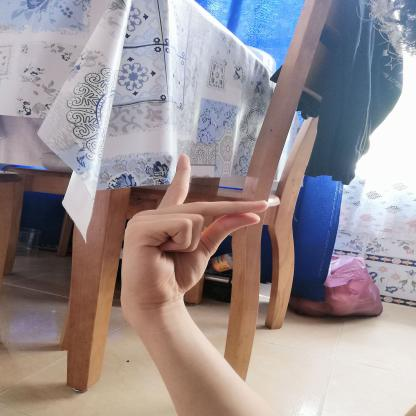TAA: (107, 146, 276, 318)
